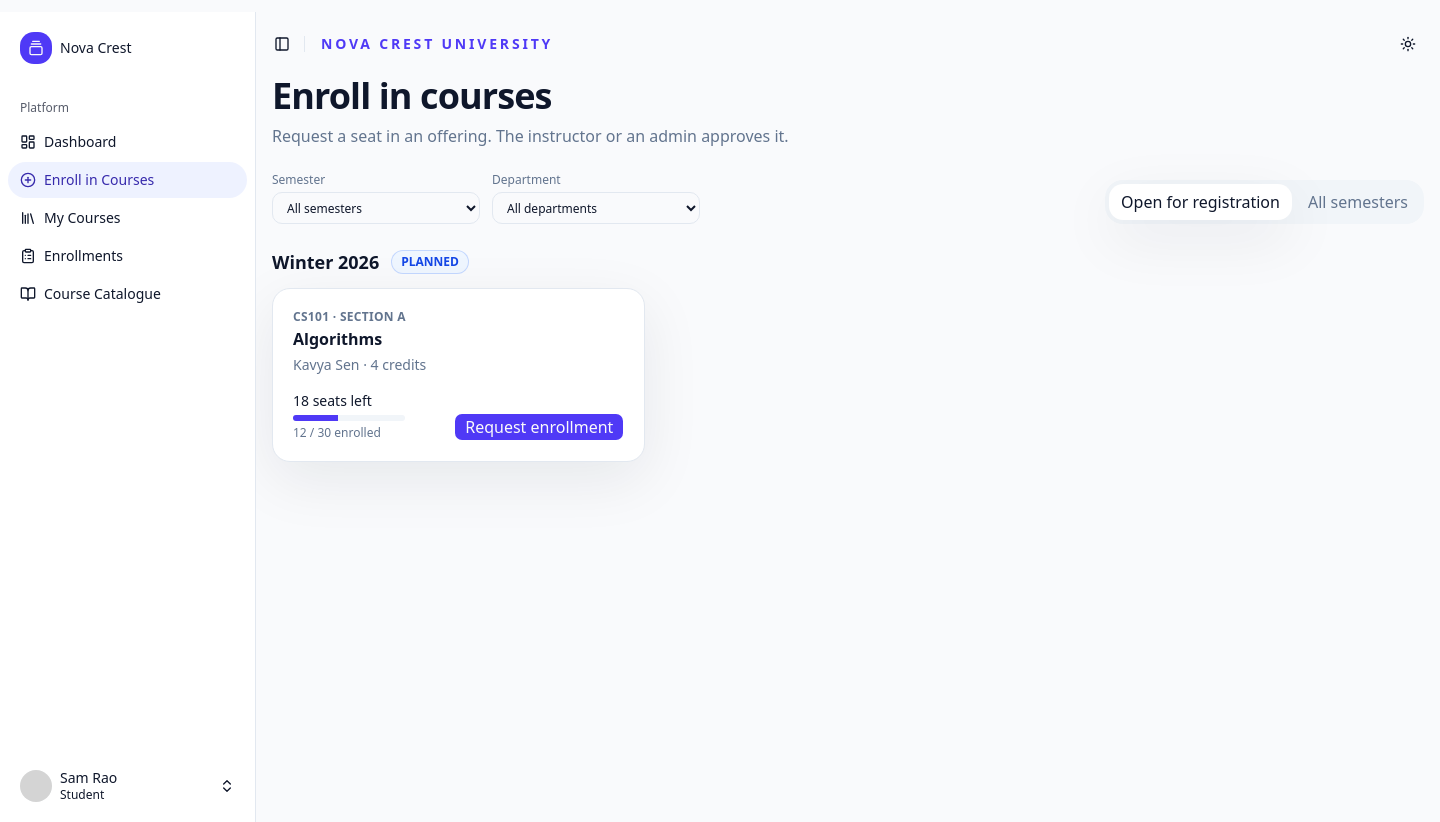
Test case: BrowseOfferingsView › shows every semester, latest first, on the All tab
Expected: the element named "CS101 section A" is shown, [272,288,645,462]
What coordinates should you click on to do the following:
click the tab "All semesters"
I would click on:
 (1358, 202)
Its box is [1296,184,1420,220].
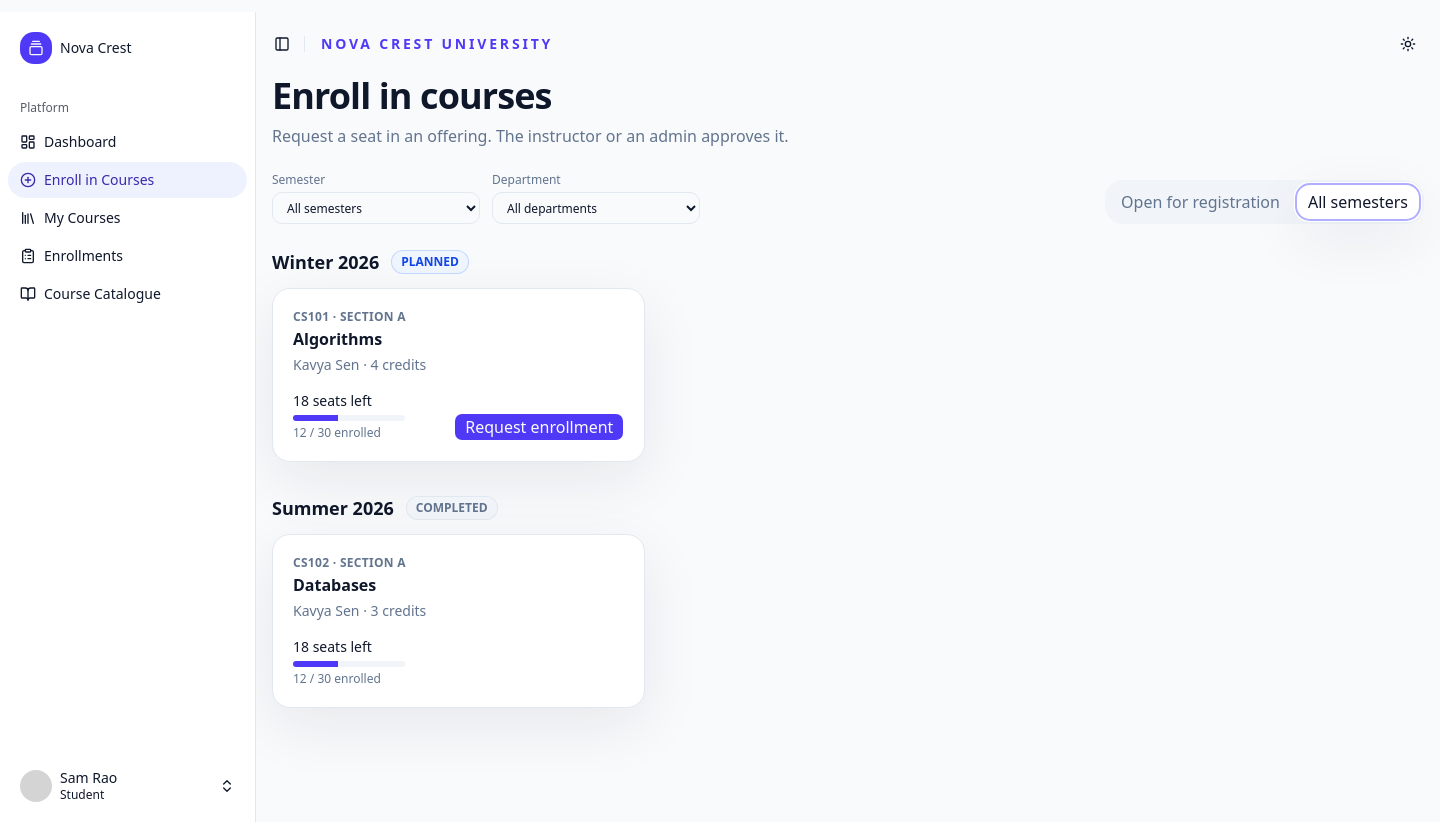
Expected: the element named "CS102 section A" is shown, [272,534,645,708]
